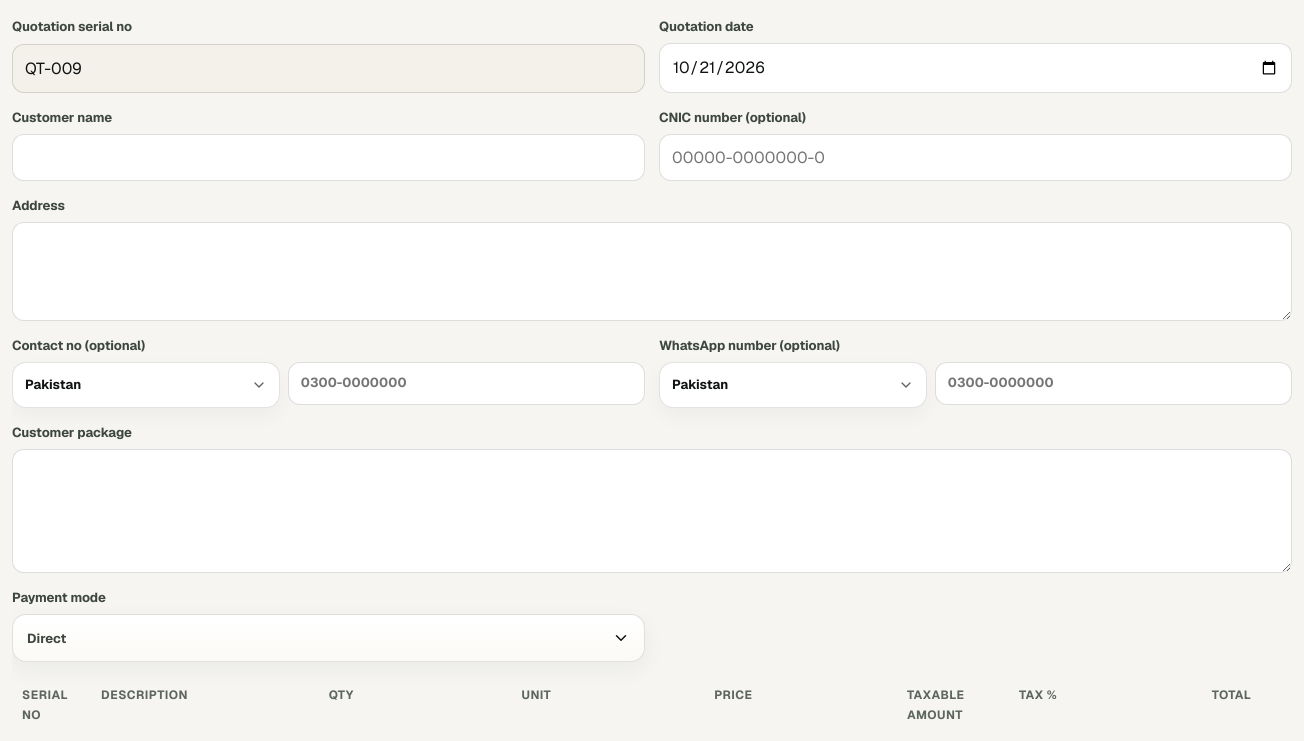
Test: a complete cnic fills the saved customer details
Type "3710112345671" into the field labelled "CNIC number (optional)". click: (976, 157)
box: [659,134,1292,181]
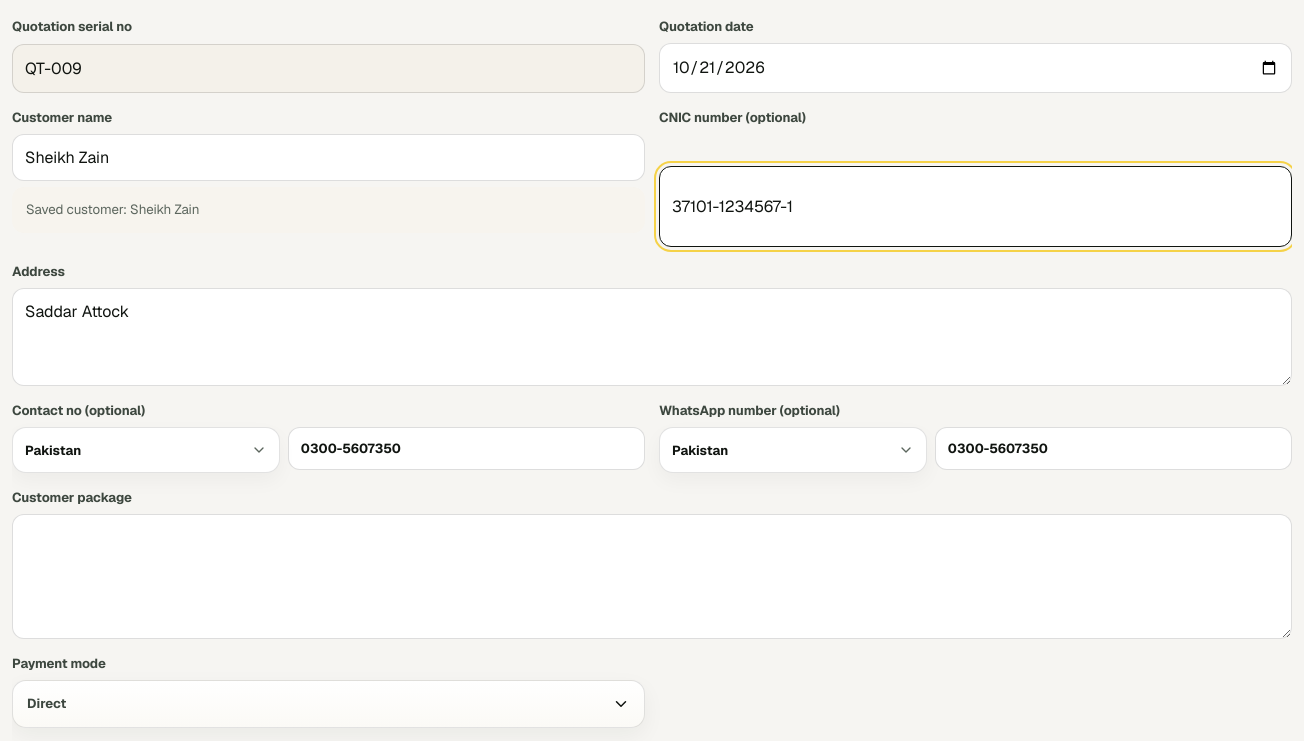
Result: the field labelled "Customer name" holds "Sheikh Zain" at [12,134,645,181]
Result: the text box labelled "Address" holds "Saddar Attock" at [12,288,1292,386]
Result: the text "Saved customer: Sheikh Zain" is shown at [12,187,645,232]
